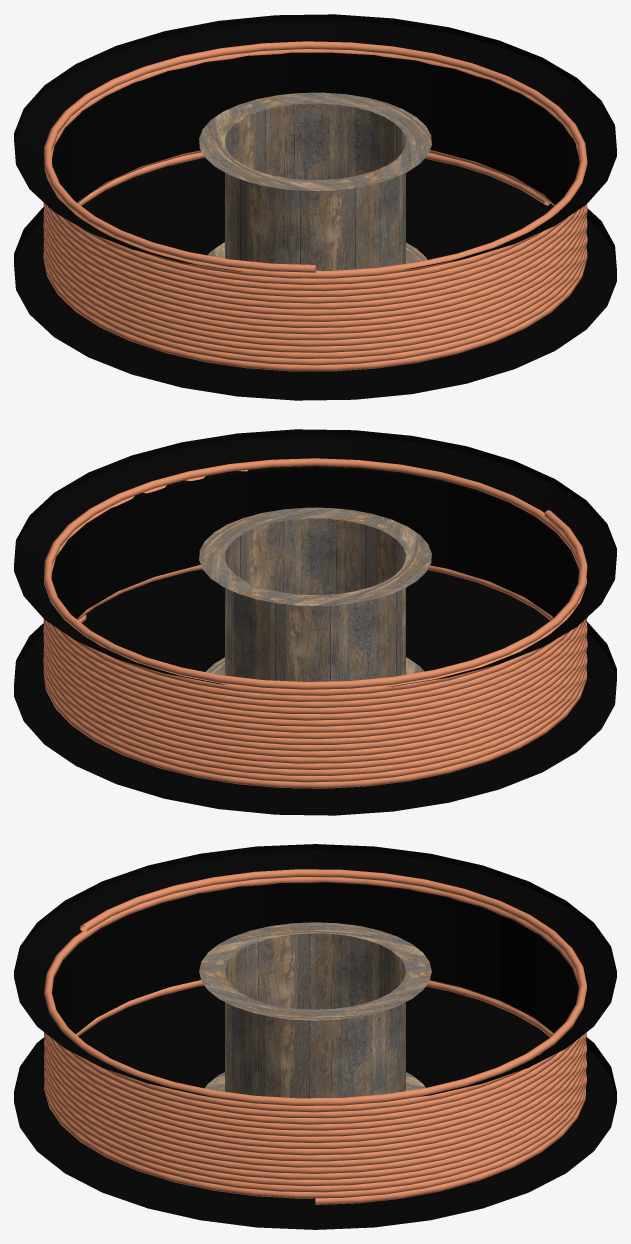
File: CopperWire.gltf
3 views of the same model, one above another, from view 1: azimuth 30°, elevation 25°; view 2: azimuth 150°, elevation 25°; view 3: azimuth 270°, elevation 25° (orthographic).
Parts seen in each view (by area): view 1: CopperWire; view 2: CopperWire; view 3: CopperWire.
Boxes of the visible parts, <box> form: CopperWire: <box>14,14,616,400</box>; CopperWire: <box>14,429,616,815</box>; CopperWire: <box>14,844,616,1229</box>.
Size of the model in its own units: 0.8339 by 0.2 by 0.8339.
3 materials, 1 textured.
